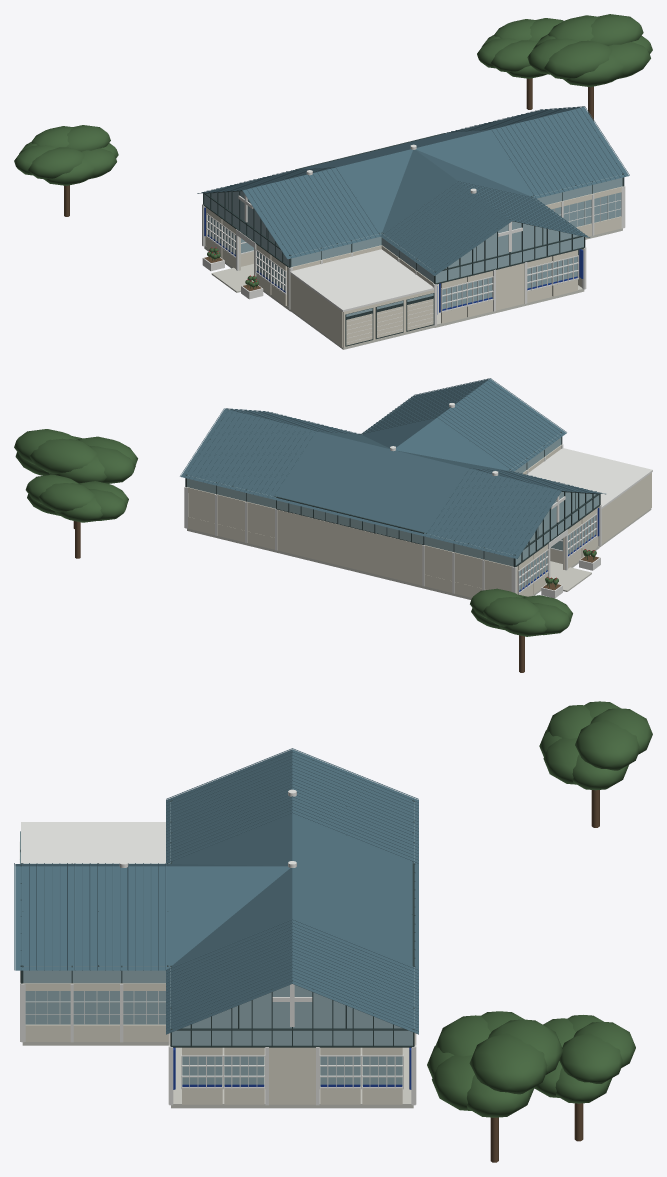
Rendered from berea-church-v8.glb.
3 renders of one model, top to bottom at view 1: azimuth 30°, elevation 25°; view 2: azimuth 150°, elevation 25°; view 3: azimuth 270°, elevation 25°, orthographic. The views are drawn at different scales.
Parts seen in each view (by area): view 1: Ceiling_roof, Surroundings_green, Windows_window, ChurchExterior_wall, CaretakerKitchen_trim, CaretakerKitchen_wall, Windows_trim, Windows_beam, ChurchExterior_trim, MainAisle_floor, CaretakerKitchen_beam, Surroundings_wood (+2 smaller); view 2: Ceiling_roof, Surroundings_green, StaffRoomWall_wall, Windows_window, ChurchExterior_wall, CaretakerKitchen_trim, SmallHall_wall, Windows_trim, OfficeStaffKitchen_wall, CaretakerKitchen_wall, Windows_beam, MainAisle_floor (+4 smaller); view 3: Ceiling_roof, Surroundings_green, Windows_window, ChurchExterior_wall, CaretakerKitchen_trim, Windows_trim, MainAisle_floor, Windows_beam, ChurchExterior_trim, Surroundings_wood.
Boxes of the visible parts, x1=… form: Ceiling_roof: x1=197, y1=106, x2=629, y2=275; Surroundings_green: x1=14, y1=14, x2=652, y2=185; Windows_window: x1=204, y1=114, x2=622, y2=309; ChurchExterior_wall: x1=207, y1=186, x2=623, y2=323; CaretakerKitchen_trim: x1=290, y1=249, x2=434, y2=342; CaretakerKitchen_wall: x1=290, y1=274, x2=433, y2=347; Windows_trim: x1=204, y1=186, x2=624, y2=325; Windows_beam: x1=203, y1=133, x2=624, y2=284; ChurchExterior_trim: x1=202, y1=186, x2=625, y2=325; MainAisle_floor: x1=204, y1=228, x2=622, y2=327; CaretakerKitchen_beam: x1=345, y1=293, x2=434, y2=346; Surroundings_wood: x1=64, y1=78, x2=593, y2=216; Ceiling_roof: x1=180, y1=378, x2=605, y2=558; Surroundings_green: x1=14, y1=429, x2=572, y2=636; StaffRoomWall_wall: x1=277, y1=509, x2=422, y2=585; Windows_window: x1=187, y1=397, x2=599, y2=589; ChurchExterior_wall: x1=186, y1=444, x2=596, y2=597; CaretakerKitchen_trim: x1=526, y1=448, x2=652, y2=508; SmallHall_wall: x1=424, y1=507, x2=598, y2=594; Windows_trim: x1=185, y1=444, x2=599, y2=594; OfficeStaffKitchen_wall: x1=188, y1=493, x2=274, y2=537; CaretakerKitchen_wall: x1=601, y1=472, x2=651, y2=543; Windows_beam: x1=185, y1=437, x2=600, y2=567; MainAisle_floor: x1=187, y1=528, x2=599, y2=599; Ceiling_roof: x1=14, y1=748, x2=418, y2=1034; Surroundings_green: x1=427, y1=701, x2=652, y2=1117; Windows_window: x1=23, y1=802, x2=414, y2=1086; ChurchExterior_wall: x1=22, y1=983, x2=415, y2=1104; CaretakerKitchen_trim: x1=19, y1=822, x2=165, y2=863; Windows_trim: x1=21, y1=983, x2=416, y2=1104; MainAisle_floor: x1=22, y1=1042, x2=413, y2=1108; Windows_beam: x1=20, y1=752, x2=415, y2=1047; ChurchExterior_trim: x1=20, y1=970, x2=415, y2=1105; Surroundings_wood: x1=490, y1=790, x2=599, y2=1162.
Size of the model in its own units: 57.53 by 9.04 by 37.92.
